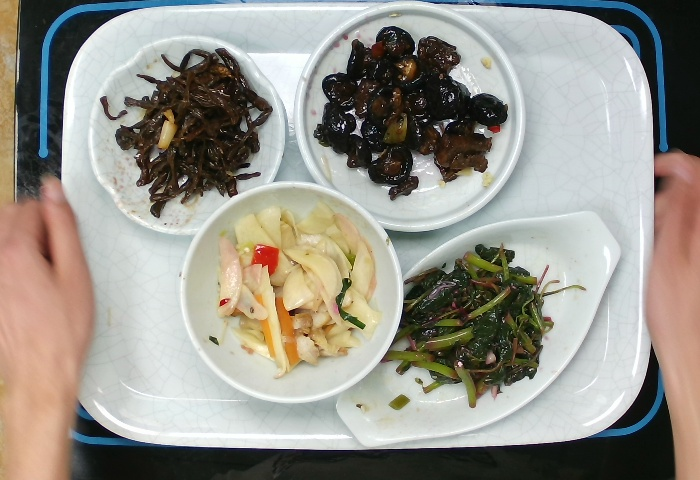JYsf-Ao_Yuan_Wan: (82, 30, 290, 243)
JYsf-Fan_Wan: (173, 178, 408, 411)
JYsf-Xiao_Yuan_Pan: (291, 2, 531, 239)
JYsf-Yu_Pan: (330, 202, 624, 449)
